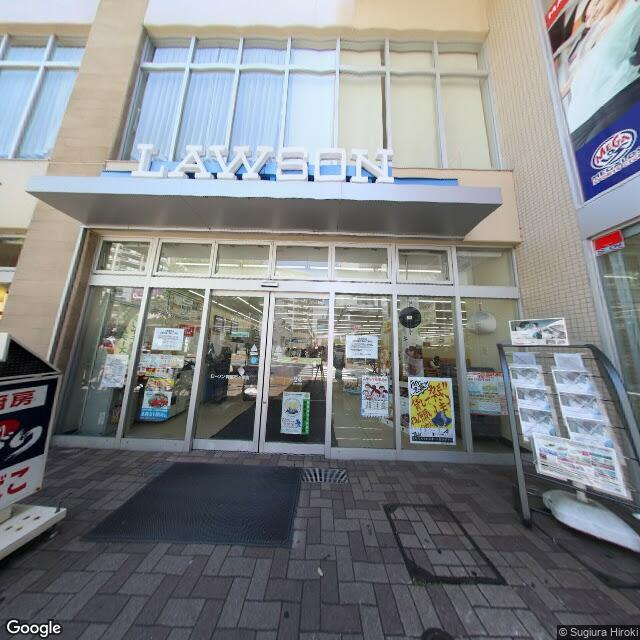lawson: (123, 135, 401, 194)
